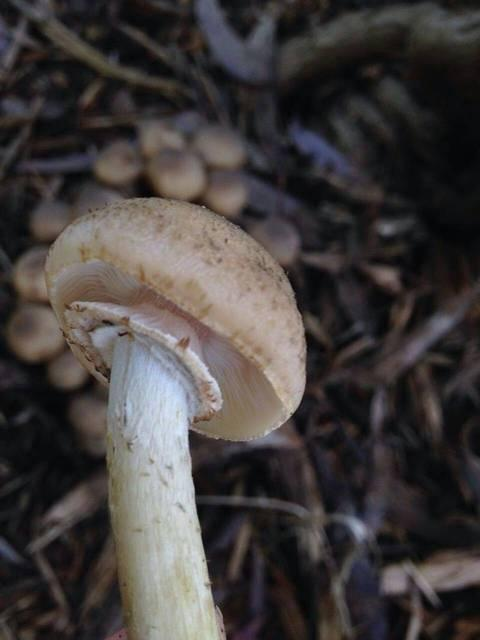Edible Mushroom: (42, 195, 308, 638)
